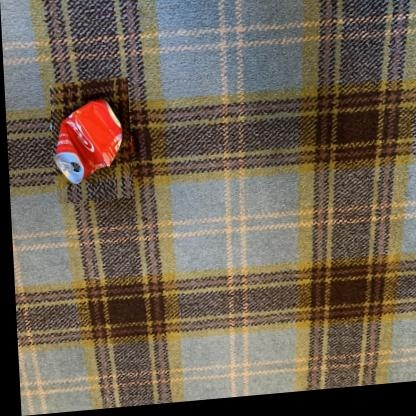trash: (55, 99, 121, 183)
